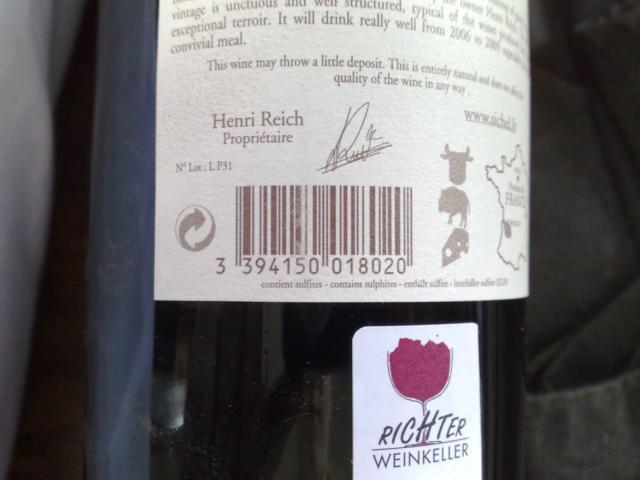Barcode: (211, 179, 420, 281)
